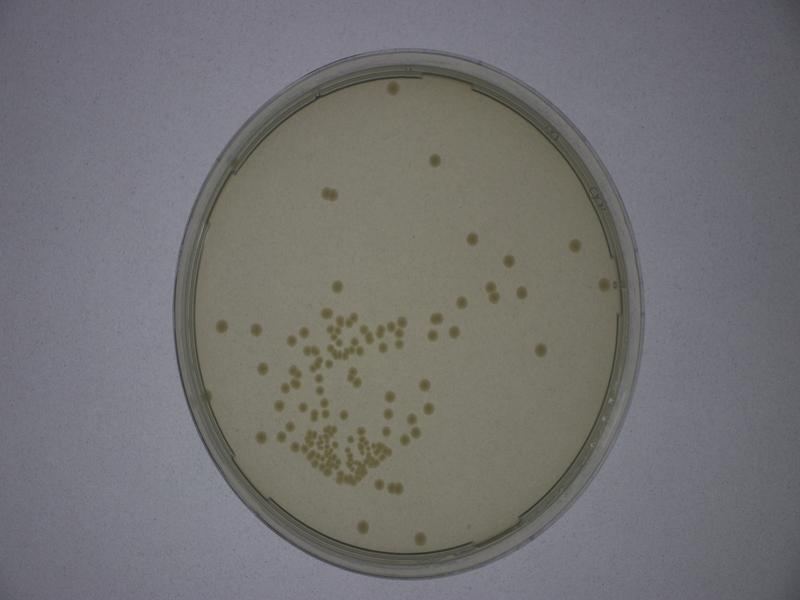colony: (501, 253, 517, 268), (413, 531, 427, 547), (357, 518, 369, 535), (516, 284, 527, 300), (533, 343, 546, 356), (454, 297, 468, 309), (419, 378, 432, 390), (383, 390, 396, 402), (254, 430, 266, 443), (214, 321, 226, 333), (428, 153, 440, 165), (330, 281, 343, 292), (385, 82, 398, 93), (467, 233, 478, 245), (257, 364, 268, 375), (424, 403, 434, 415), (299, 327, 311, 337), (569, 239, 578, 252), (250, 326, 261, 336), (450, 328, 459, 339)
